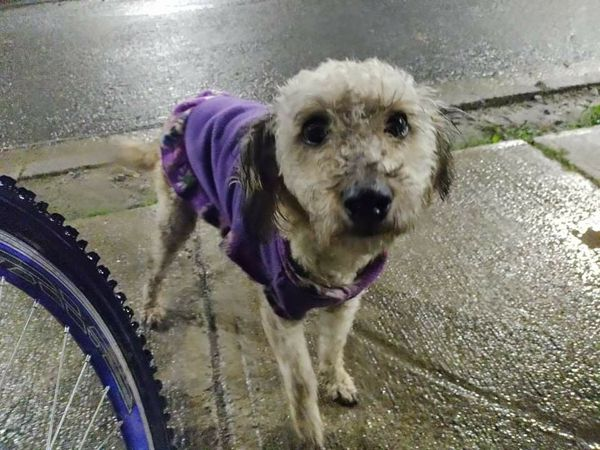dog: (109, 53, 463, 447)
